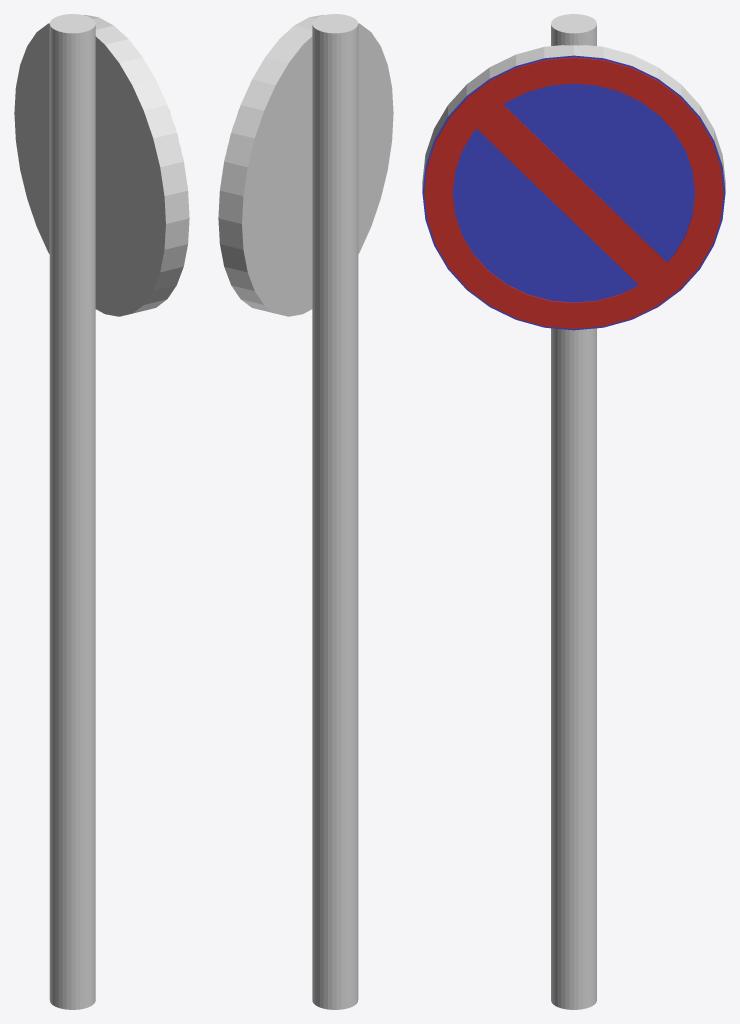
File: SignNoParking.fbx
3 renders of one model, left to right at view 1: azimuth 30°, elevation 25°; view 2: azimuth 150°, elevation 25°; view 3: azimuth 270°, elevation 25°, orthographic.
Parts seen in each view (by area): view 1: Cylinder.023, SignCircle.026; view 2: Cylinder.023, SignCircle.026; view 3: SignCircle.026, Cylinder.023, SignCircle.027, TextStop.010.
Boxes of the visible parts, x1=… form: Cylinder.023: x1=49, y1=14, x2=95, y2=1009; SignCircle.026: x1=14, y1=15, x2=189, y2=316; Cylinder.023: x1=312, y1=14, x2=358, y2=1009; SignCircle.026: x1=218, y1=15, x2=393, y2=316; SignCircle.026: x1=422, y1=45, x2=725, y2=330; Cylinder.023: x1=551, y1=14, x2=596, y2=1009; SignCircle.027: x1=424, y1=57, x2=723, y2=328; TextStop.010: x1=477, y1=105, x2=666, y2=285.
Size of the model in its own units: 111 by 1671 by 470.
